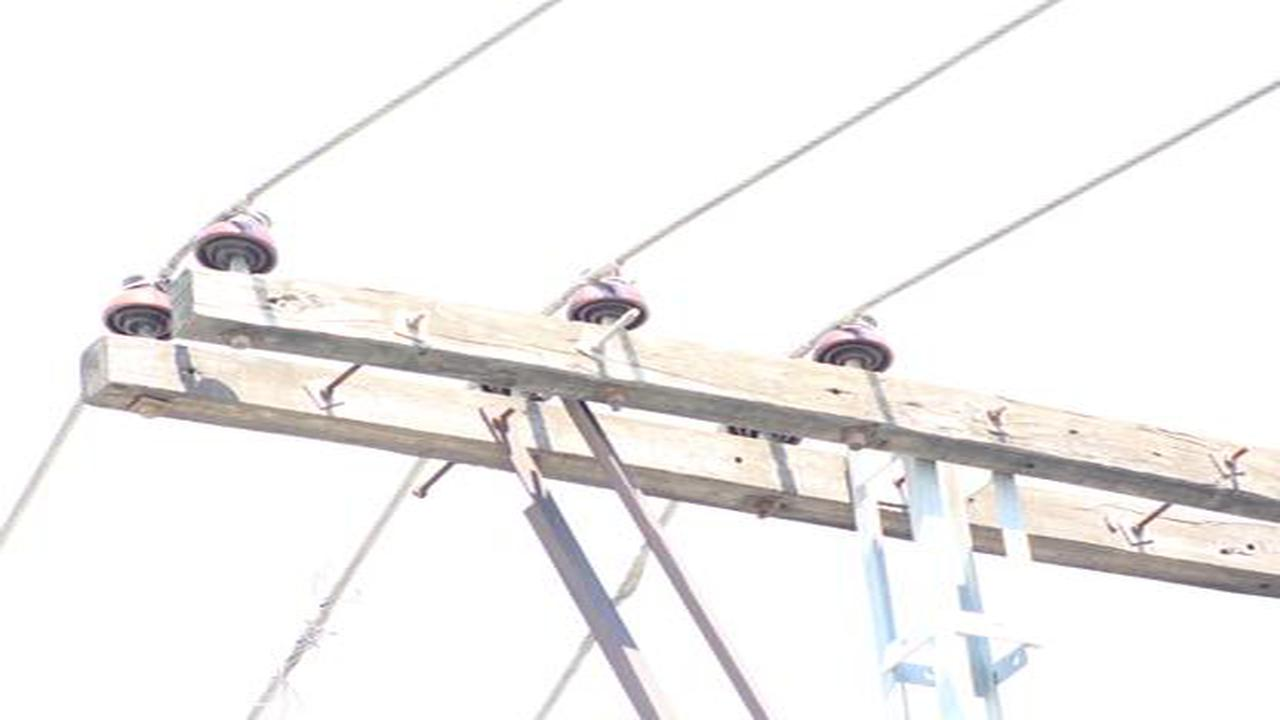insulator_pin: (193, 201, 284, 274), (569, 259, 650, 331), (811, 310, 897, 372), (99, 270, 171, 339)
